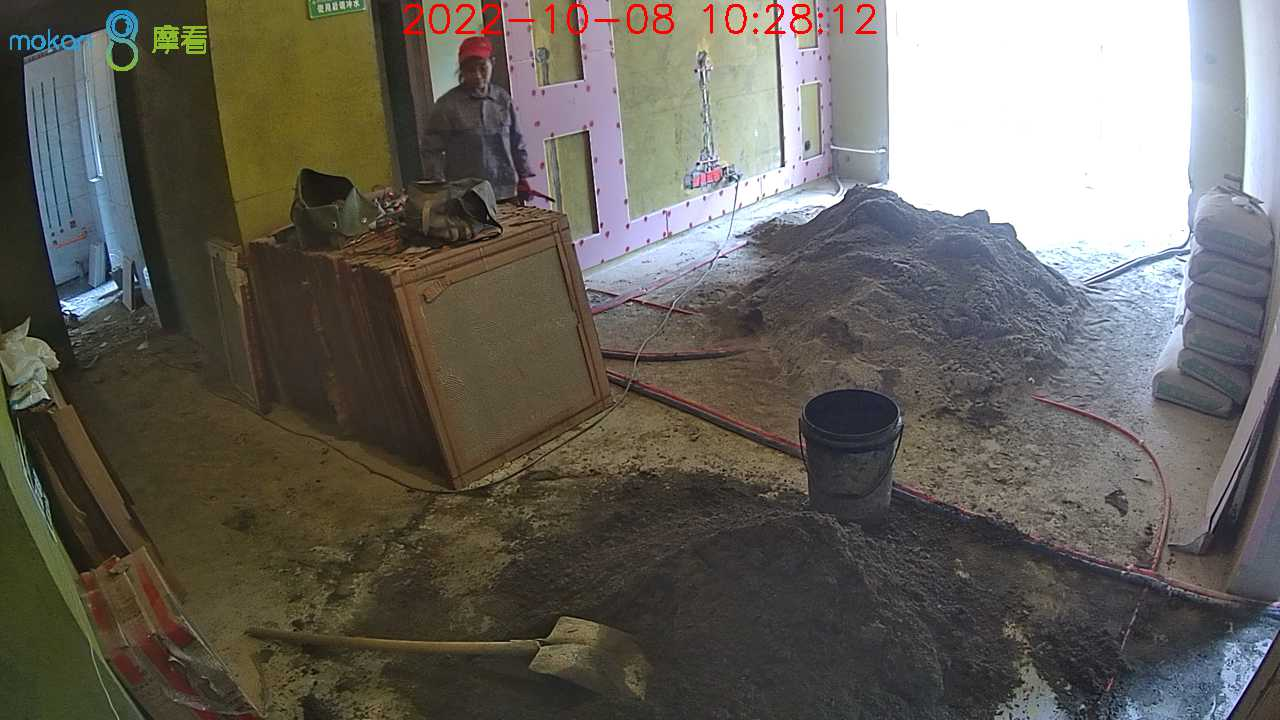people: (428, 39, 535, 199)
window: (887, 1, 1193, 190)
